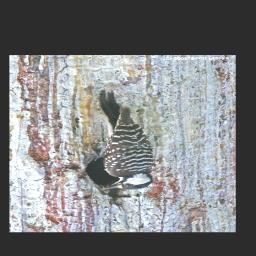Woodpecker: (95, 90, 159, 193)
